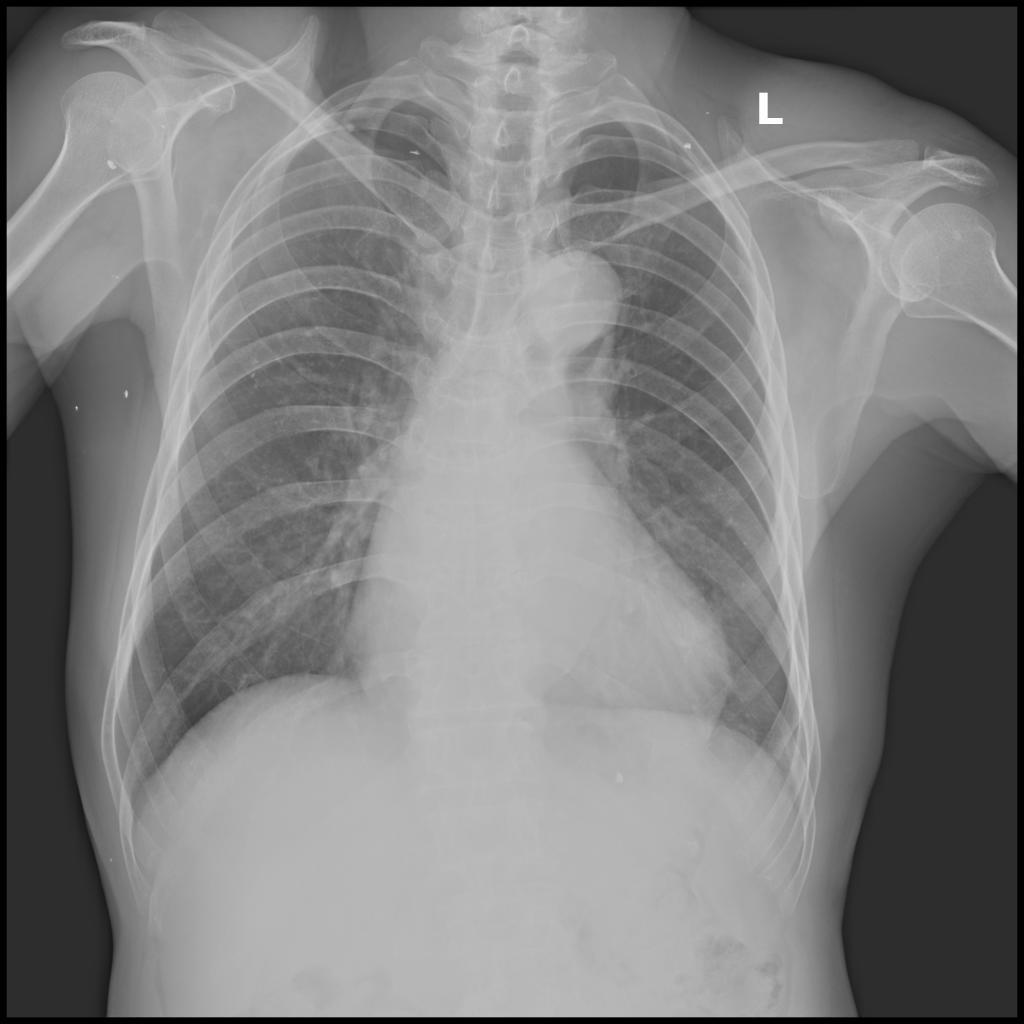Nodule: (347, 125, 355, 132)
